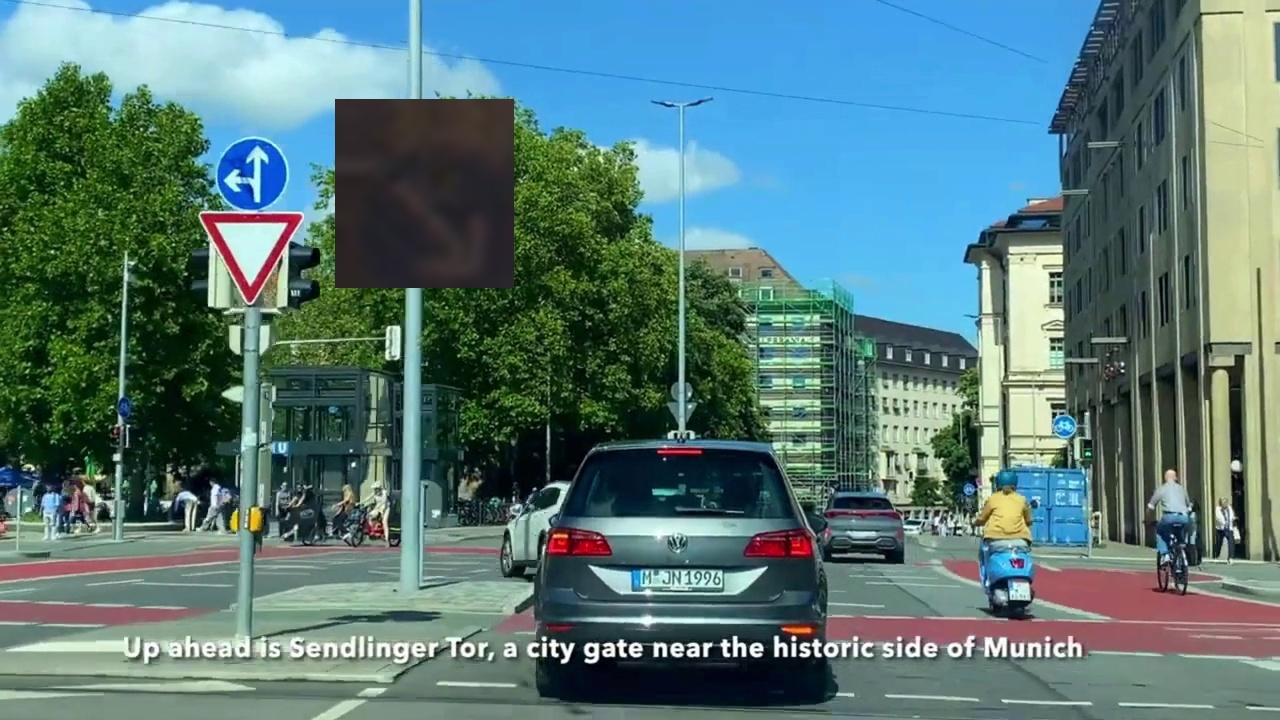Keep right: (335, 99, 514, 288)
